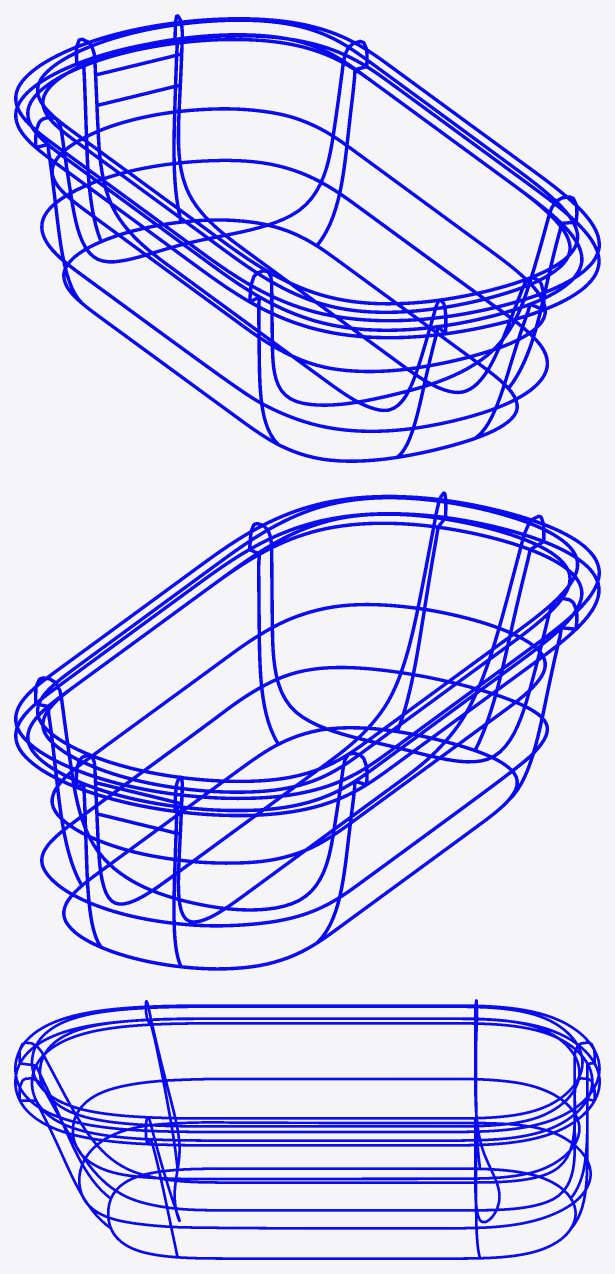
The model's file is flowrep_bathtub.glb.
3 views of the same model, one above another, from view 1: azimuth 30°, elevation 25°; view 2: azimuth 150°, elevation 25°; view 3: azimuth 270°, elevation 25° (orthographic). The views are drawn at different scales.
Visible parts, largest first — view 1: flowrep_bathtub; view 2: flowrep_bathtub; view 3: flowrep_bathtub.
Part boxes in pixels (<box>): flowrep_bathtub: <box>14,14,600,462</box>; flowrep_bathtub: <box>14,491,600,970</box>; flowrep_bathtub: <box>14,999,600,1259</box>.
Bounding box in the file's own units: 0.446 × 0.253 × 0.8657.
